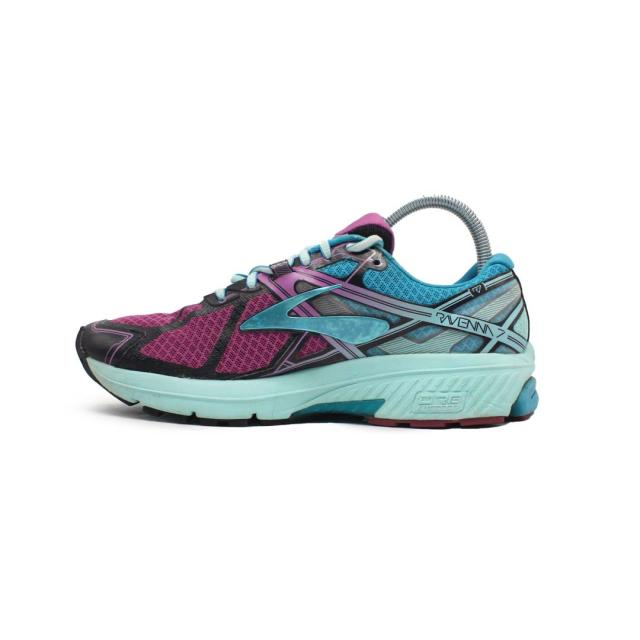heel: (460, 254, 532, 354)
midsole: (74, 327, 540, 428)
uppersole: (85, 213, 460, 382)
